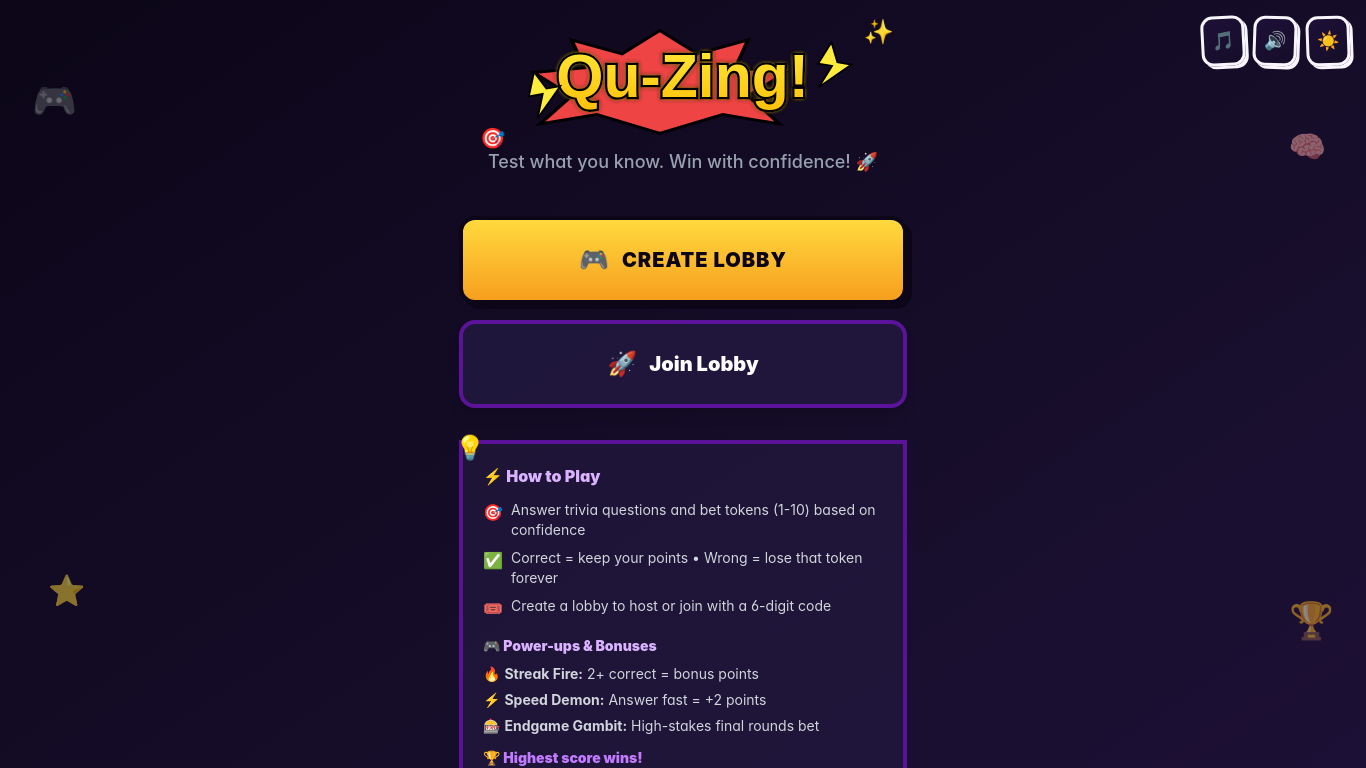
Test: BrowserLobby Component › Create Mode › should switch to create mode when clicking create button
The image size is (1366, 768).
Click the button "🎮 Create Lobby" at (683, 260), box [459,216,907,304]
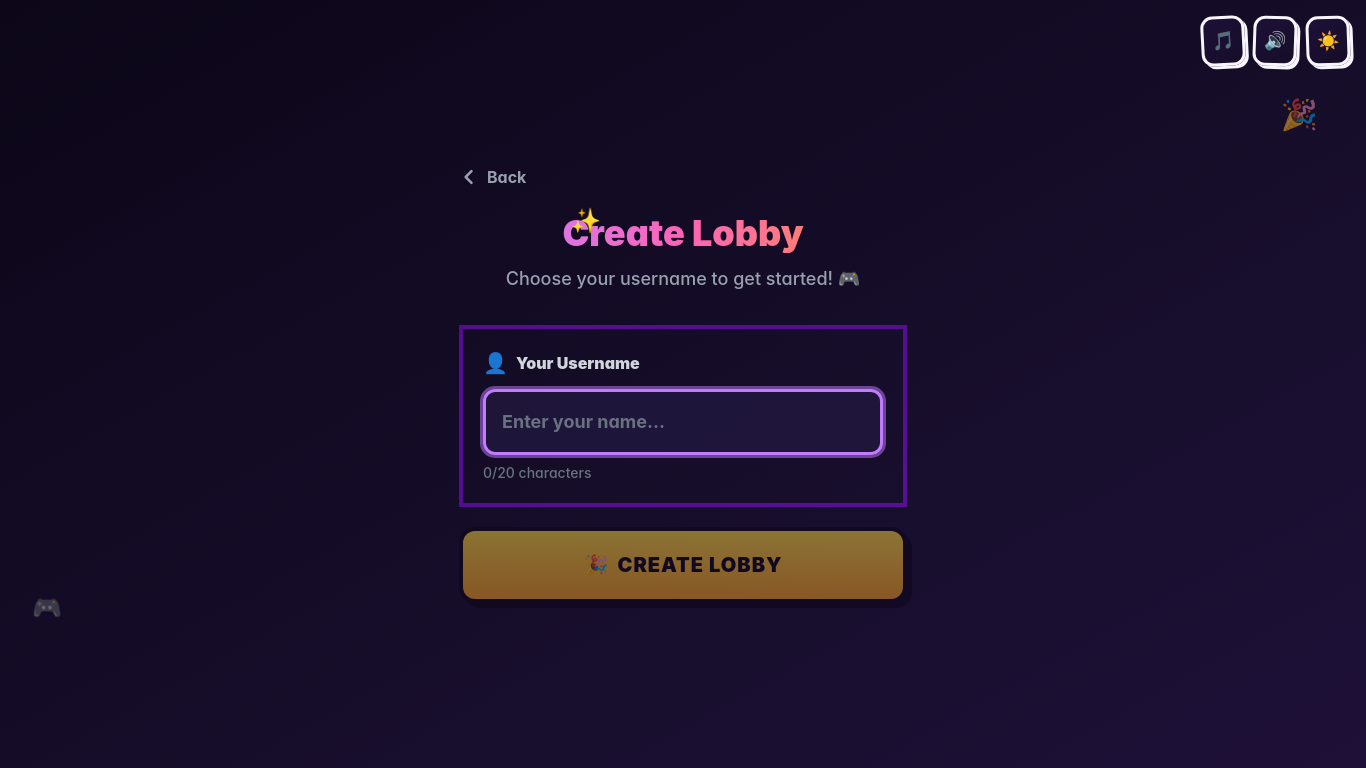
Expected: the field with placeholder "Enter your name..." is shown, [483,389,883,455]
Expected: the heading "Create Lobby" is shown, [459,213,907,253]
